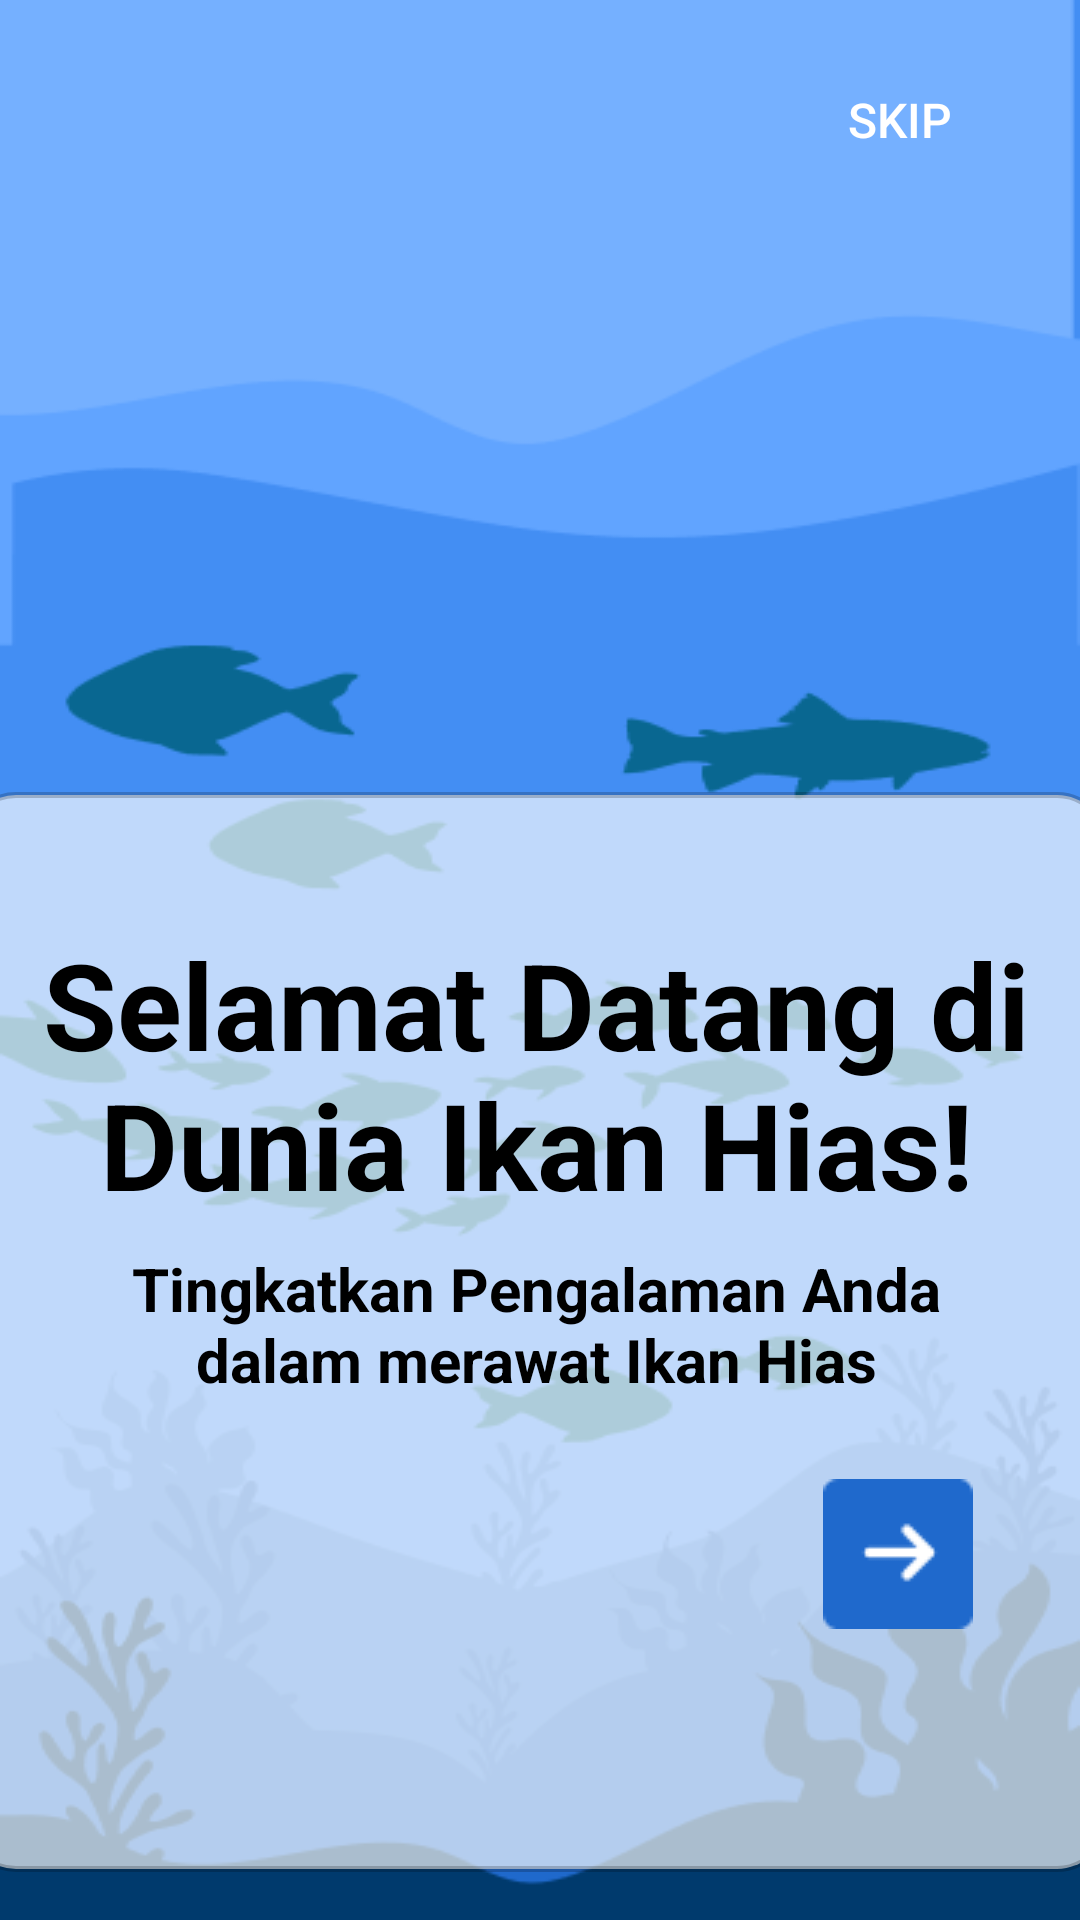

Icon bounding boxes for this 1080 x 1920 phone screenshot, format (x1, y1, x2, y2):
Next: (802, 1479, 1036, 1665)
